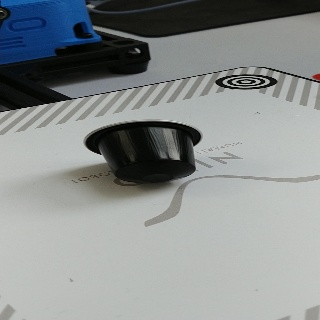capsule_10: (82, 118, 204, 184)
